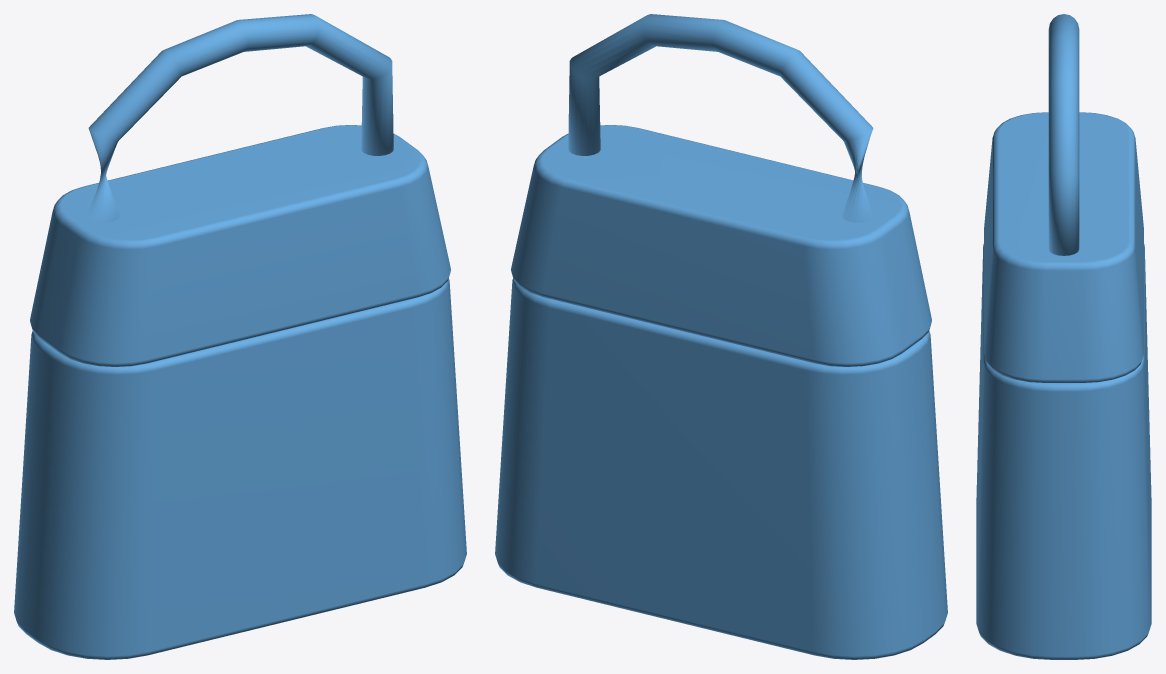
The model's file is case06_sofa_trompeur_lampe_spatial_decomposed.glb.
3 renders of one model, left to right at view 1: azimuth 30°, elevation 25°; view 2: azimuth 150°, elevation 25°; view 3: azimuth 270°, elevation 25°, orthographic. The views are drawn at different scales.
Visible parts, largest first — view 1: Corps_Principal_Cuir, Rabat_Superieur_Cuir, Anse_Arche_Cuir; view 2: Corps_Principal_Cuir, Rabat_Superieur_Cuir, Anse_Arche_Cuir; view 3: Corps_Principal_Cuir, Rabat_Superieur_Cuir, Anse_Arche_Cuir.
Part boxes in pixels (x1=…): Corps_Principal_Cuir: x1=14, y1=278, x2=466, y2=659; Rabat_Superieur_Cuir: x1=30, y1=125, x2=450, y2=366; Anse_Arche_Cuir: x1=87, y1=14, x2=393, y2=222; Corps_Principal_Cuir: x1=495, y1=278, x2=947, y2=659; Rabat_Superieur_Cuir: x1=511, y1=125, x2=931, y2=366; Anse_Arche_Cuir: x1=568, y1=14, x2=874, y2=222; Corps_Principal_Cuir: x1=976, y1=244, x2=1151, y2=659; Rabat_Superieur_Cuir: x1=984, y1=112, x2=1143, y2=382; Anse_Arche_Cuir: x1=1048, y1=14, x2=1079, y2=255.
Bounding box in the file's own units: 0.2067 × 0.2681 × 0.0802.
